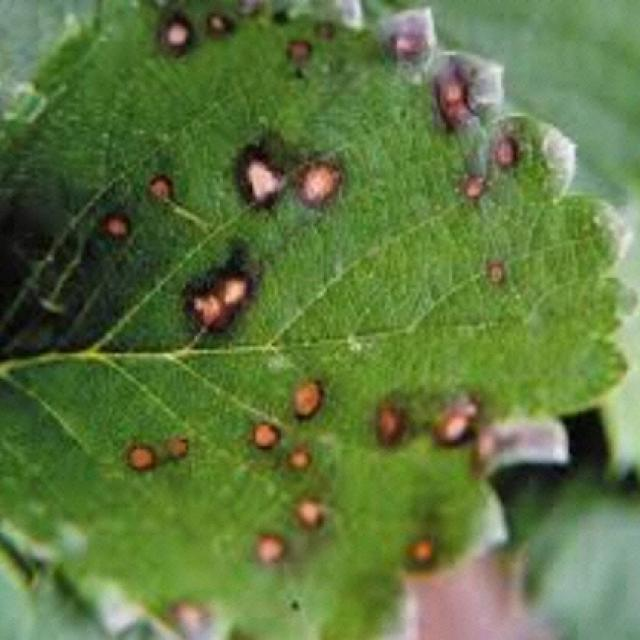Leaf Spot: (0, 0, 638, 638)
